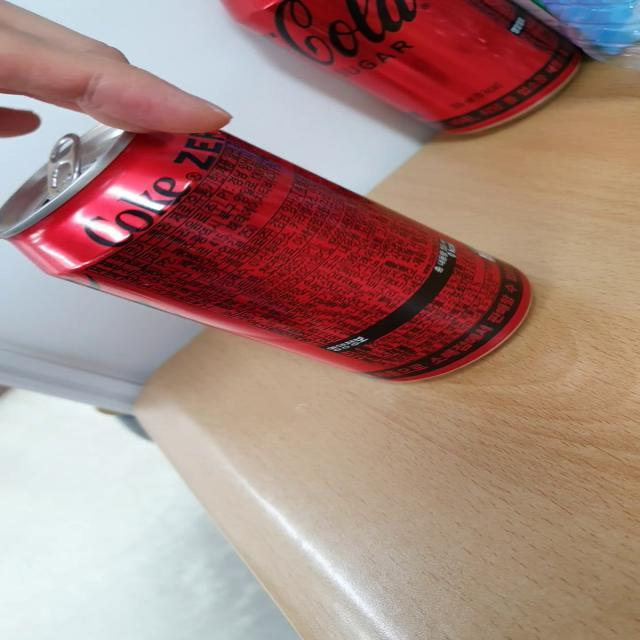coca-cola: (0, 98, 568, 402), (178, 0, 640, 144)
